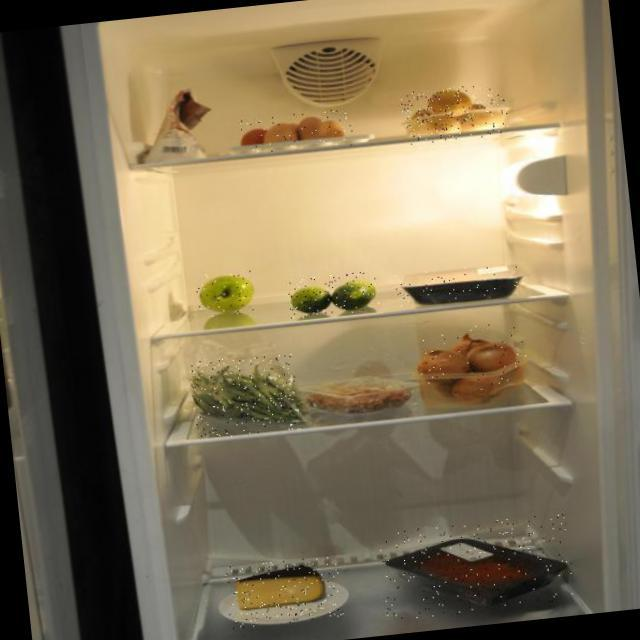Cebolla: (414, 321, 530, 396)
Huevos: (240, 108, 355, 157)
Manzana: (194, 269, 254, 318)
Patata: (400, 82, 509, 145)
Queso: (224, 555, 344, 629)
green beans: (189, 351, 302, 440)
lime: (287, 270, 380, 320)
meat: (378, 513, 575, 621), (393, 262, 522, 307)
